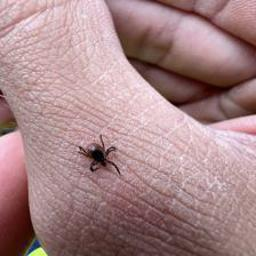Ixodes scapularis: (78, 139, 121, 175)
